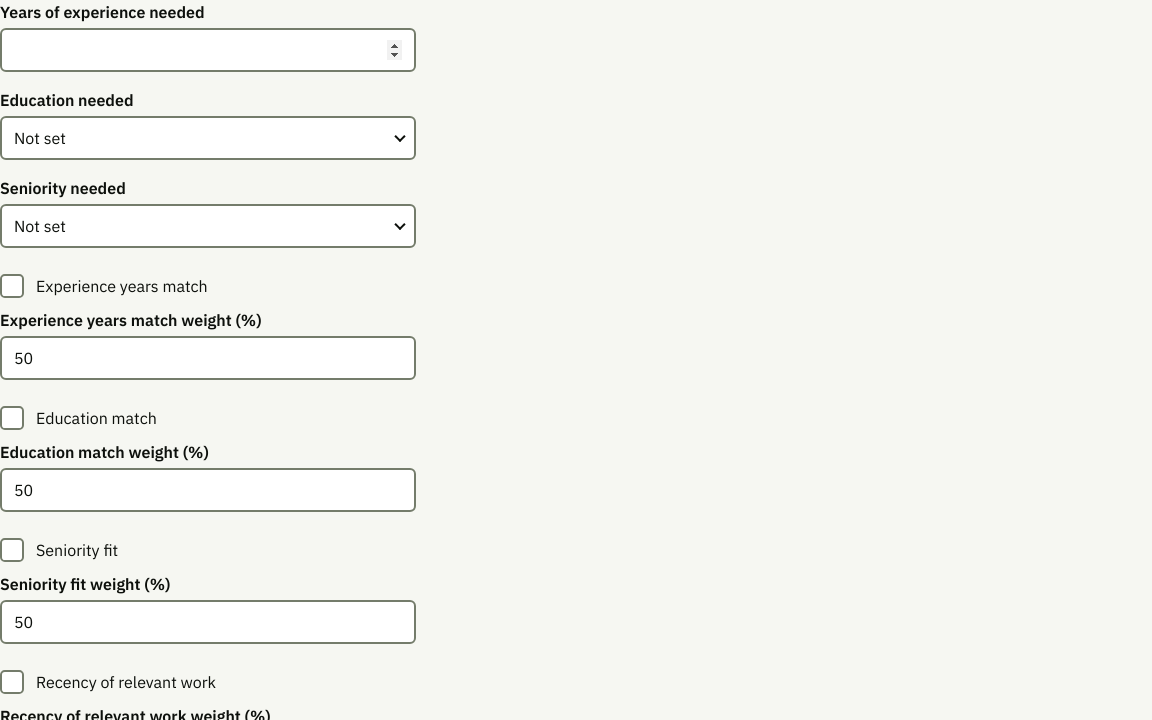
it: extra scoring factors › switches one factor on, weights it and saves everything with a popup
Check: the number field labelled "Years of experience needed" is shown, box [0,28,416,72]
Click the checkbox labelled "Recency of relevant work" at (12, 682), box [0,670,24,694]
(page scrolled)
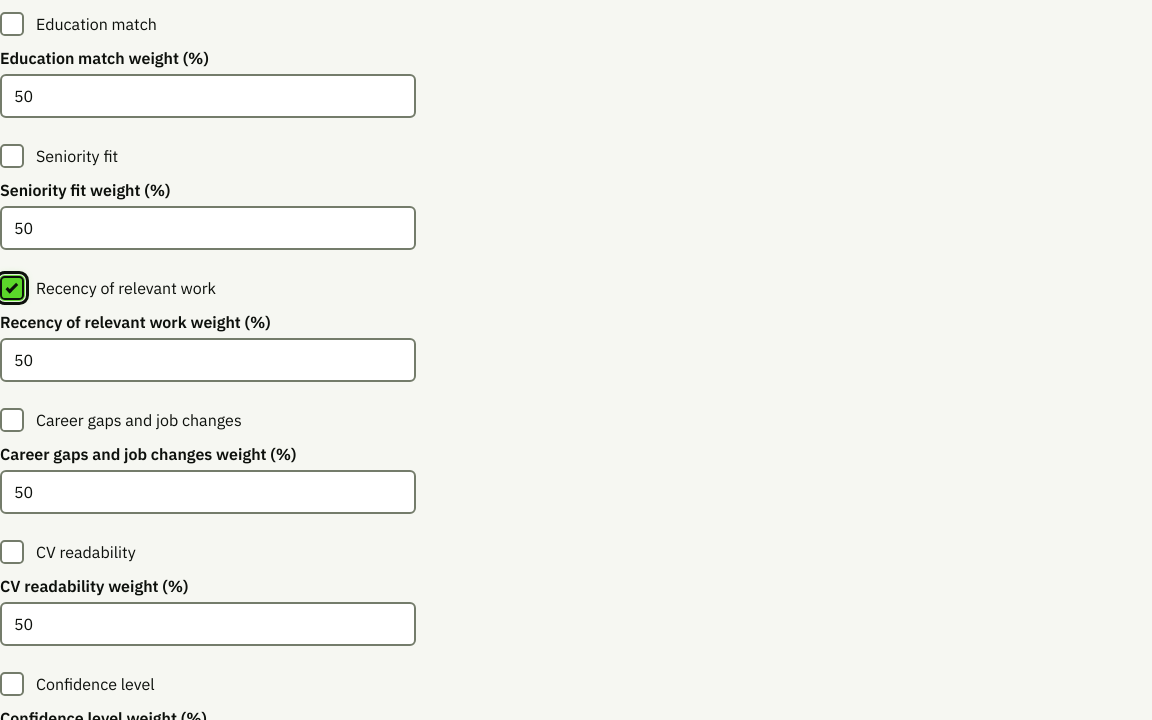
Replace the text in the number field labelled "Recency of relevant work weight (%)" with "80" at (208, 360), box [0,338,416,382]
(page scrolled)
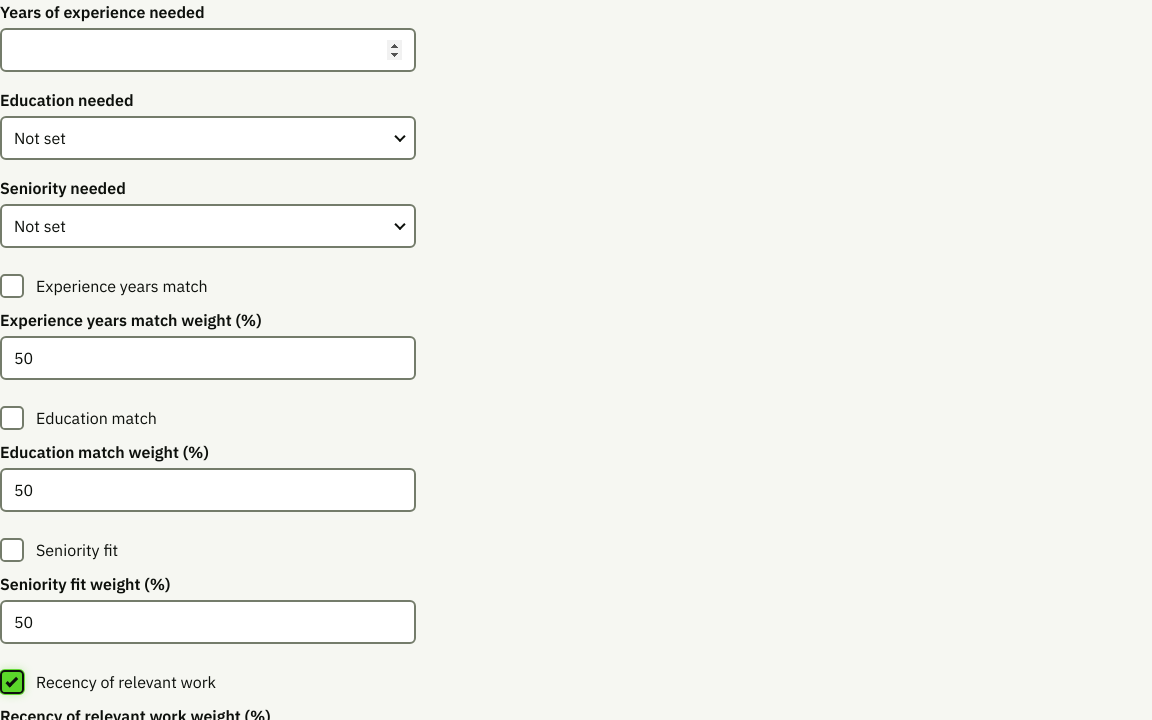
Type "5" into the number field labelled "Years of experience needed" at (208, 50), box [0,28,416,72]
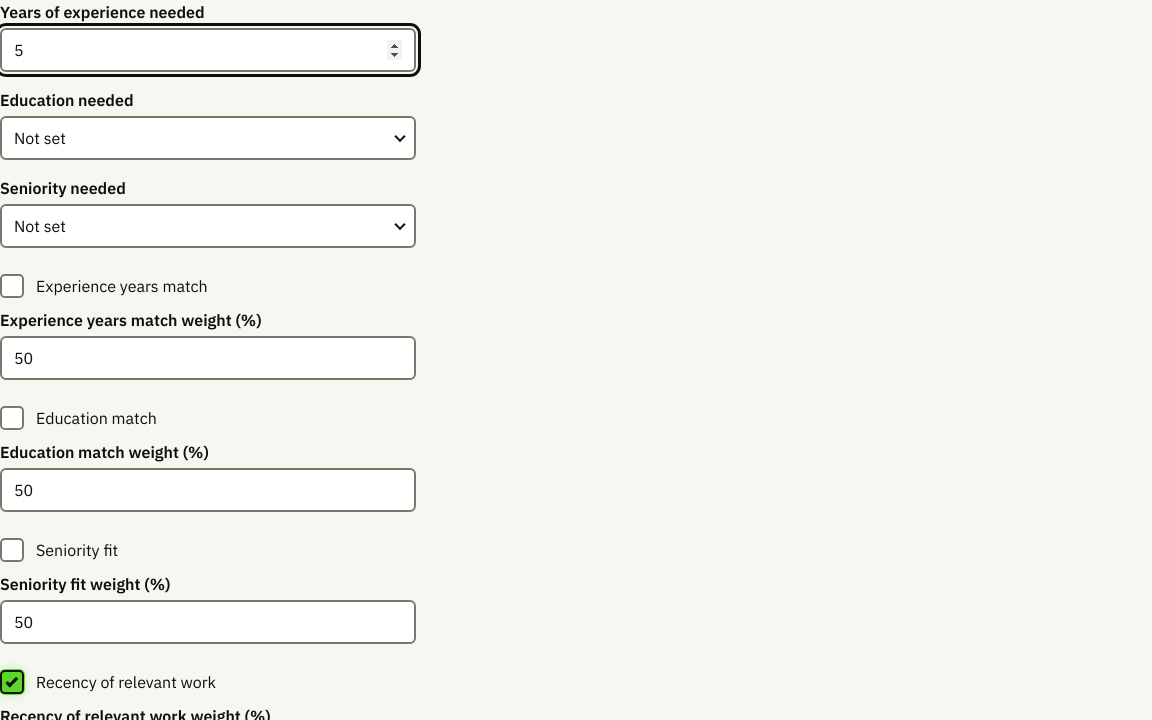
Select "Master" in the dropdown labelled "Education needed" at (208, 138), box [0,116,416,160]
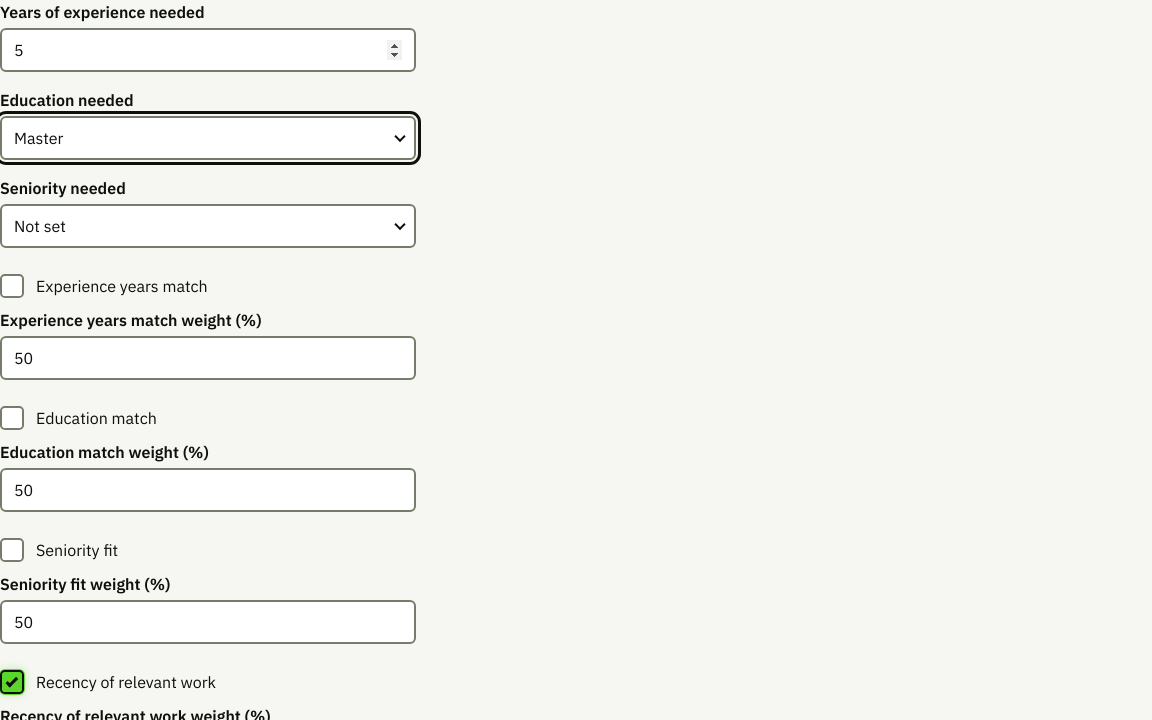
Select "Senior" in the dropdown labelled "Seniority needed" at (208, 226), box [0,204,416,248]
(page scrolled)
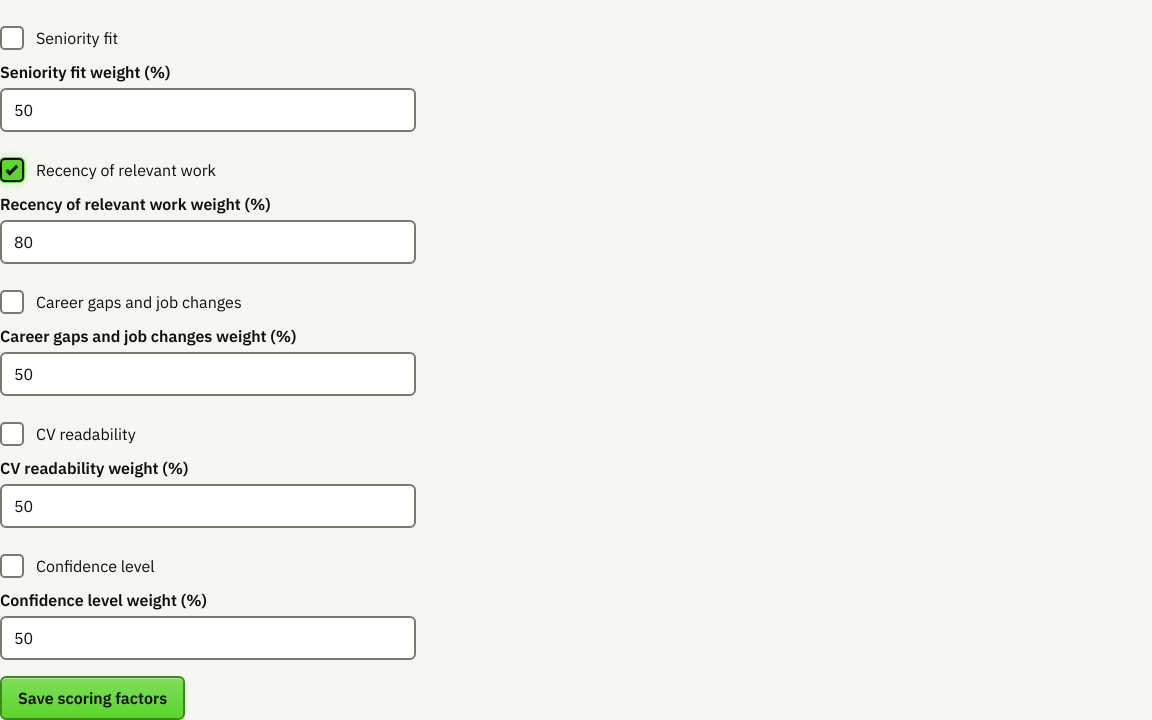
Click the button "Save scoring factors" at (93, 698), box [0,676,185,719]
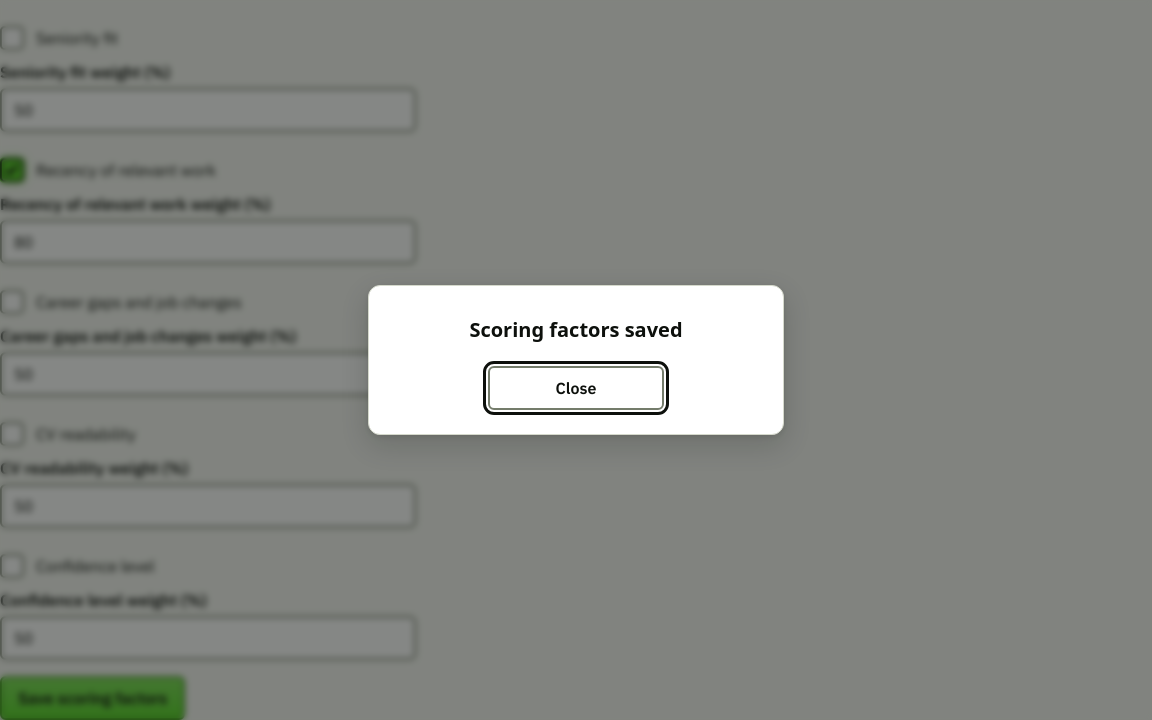
Check: the heading "Scoring factors saved" is shown, box [469,316,682,343]
